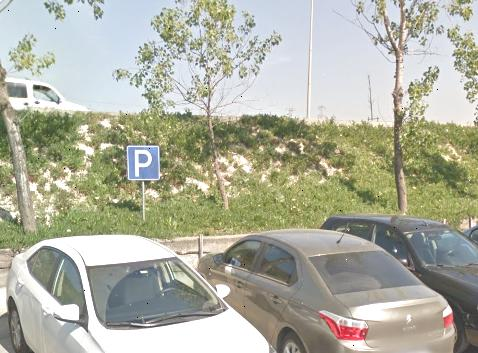park: (124, 142, 166, 185)
